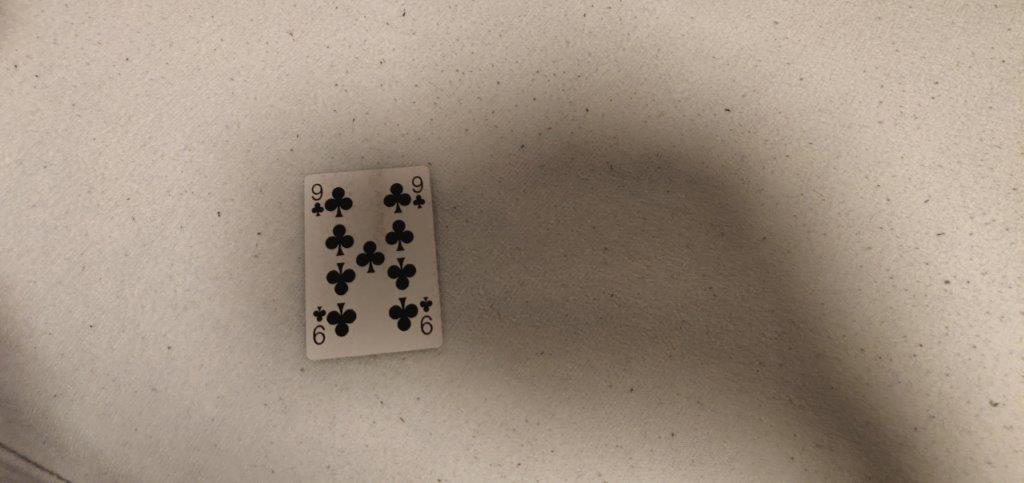9C: (304, 181, 326, 219), (408, 174, 428, 211)
